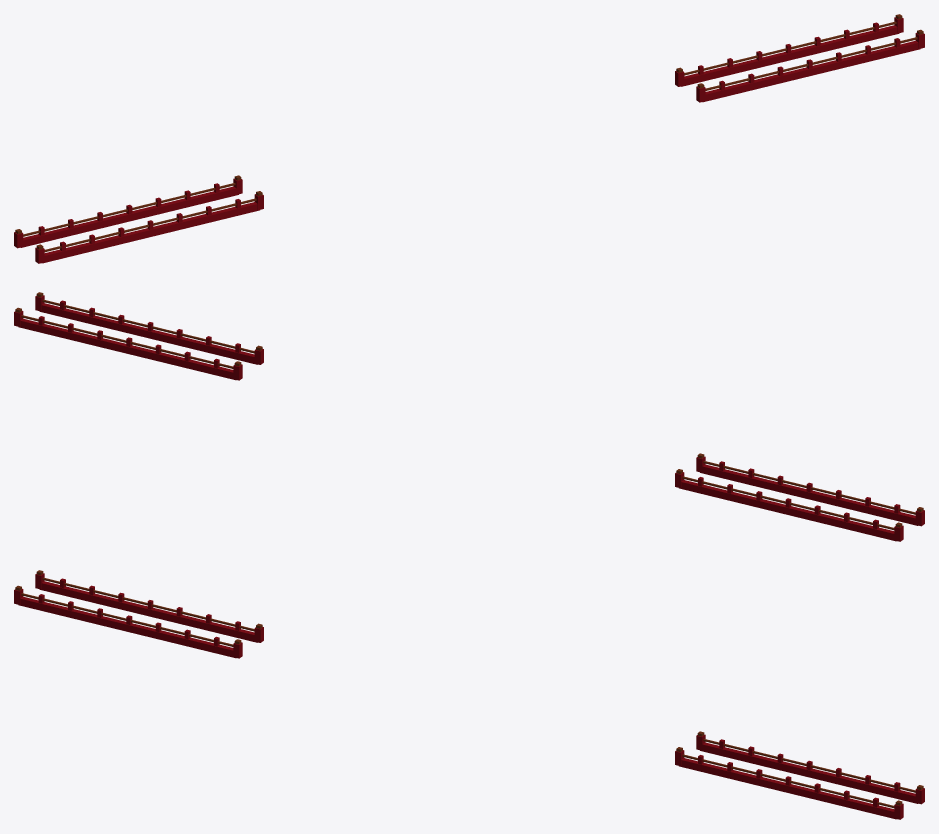
Rendered from Puentes.glb.
3 views of the same model, one above another, from view 1: azimuth 30°, elevation 25°; view 2: azimuth 150°, elevation 25°; view 3: azimuth 330°, elevation 25° (orthographic).
Visible parts, largest first — view 1: Cube.035, Cube.037, Cube.036, Cube.033; view 2: Cube.035, Cube.037, Cube.036, Cube.033; view 3: Cube.035, Cube.037, Cube.036, Cube.033.
Part boxes in pixels (x1=…): Cube.035: x1=21, y1=25, x2=920, y2=263; Cube.037: x1=23, y1=21, x2=917, y2=252; Cube.036: x1=38, y1=22, x2=900, y2=251; Cube.033: x1=14, y1=14, x2=924, y2=263; Cube.035: x1=18, y1=303, x2=917, y2=541; Cube.037: x1=21, y1=299, x2=915, y2=530; Cube.036: x1=38, y1=300, x2=900, y2=529; Cube.033: x1=14, y1=292, x2=924, y2=541; Cube.035: x1=18, y1=581, x2=917, y2=819; Cube.037: x1=21, y1=577, x2=915, y2=808; Cube.036: x1=38, y1=578, x2=900, y2=807; Cube.033: x1=14, y1=570, x2=924, y2=819.
Size of the model in its own units: 65.69 by 1.2 by 3.17.
